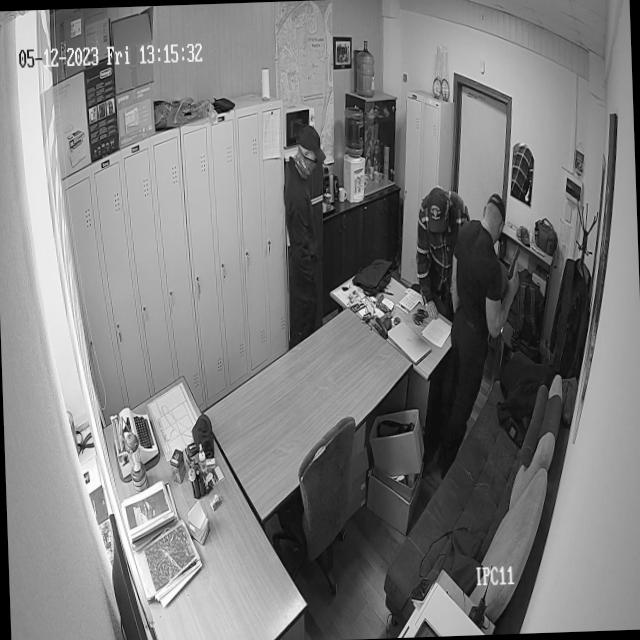gun: (503, 241, 522, 286)
person: (277, 120, 331, 320), (414, 179, 451, 322)
person with a gun: (449, 192, 528, 376)
